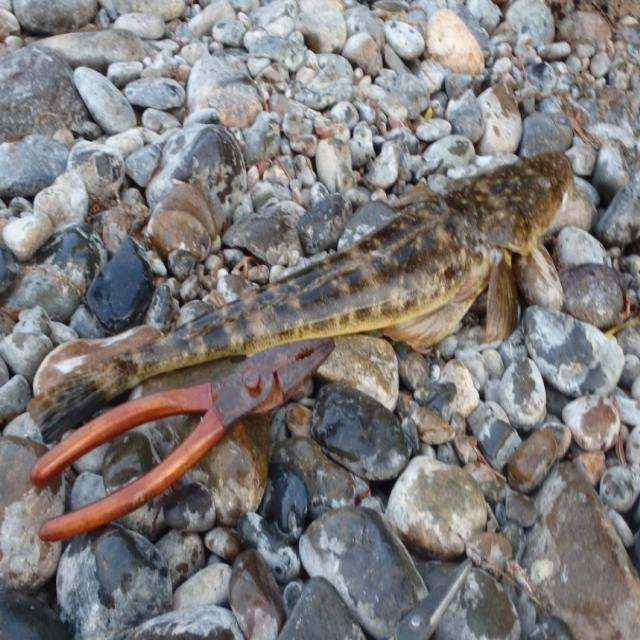Flathead: (26, 134, 589, 482)
